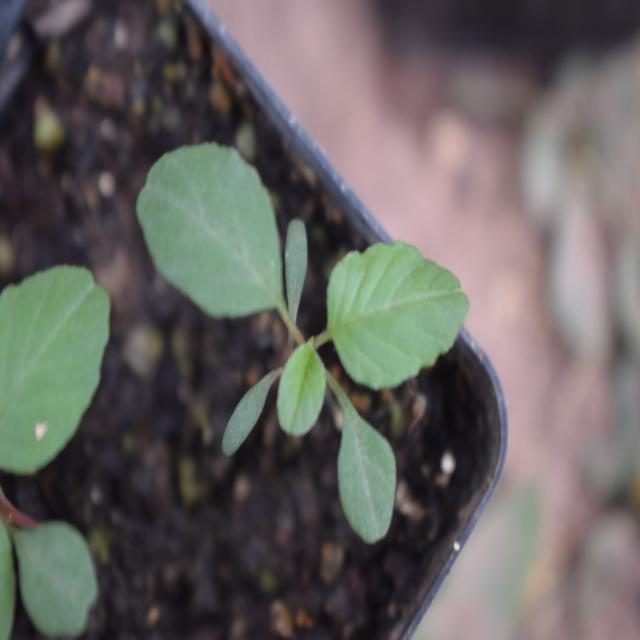pigweed: (138, 136, 458, 527)
